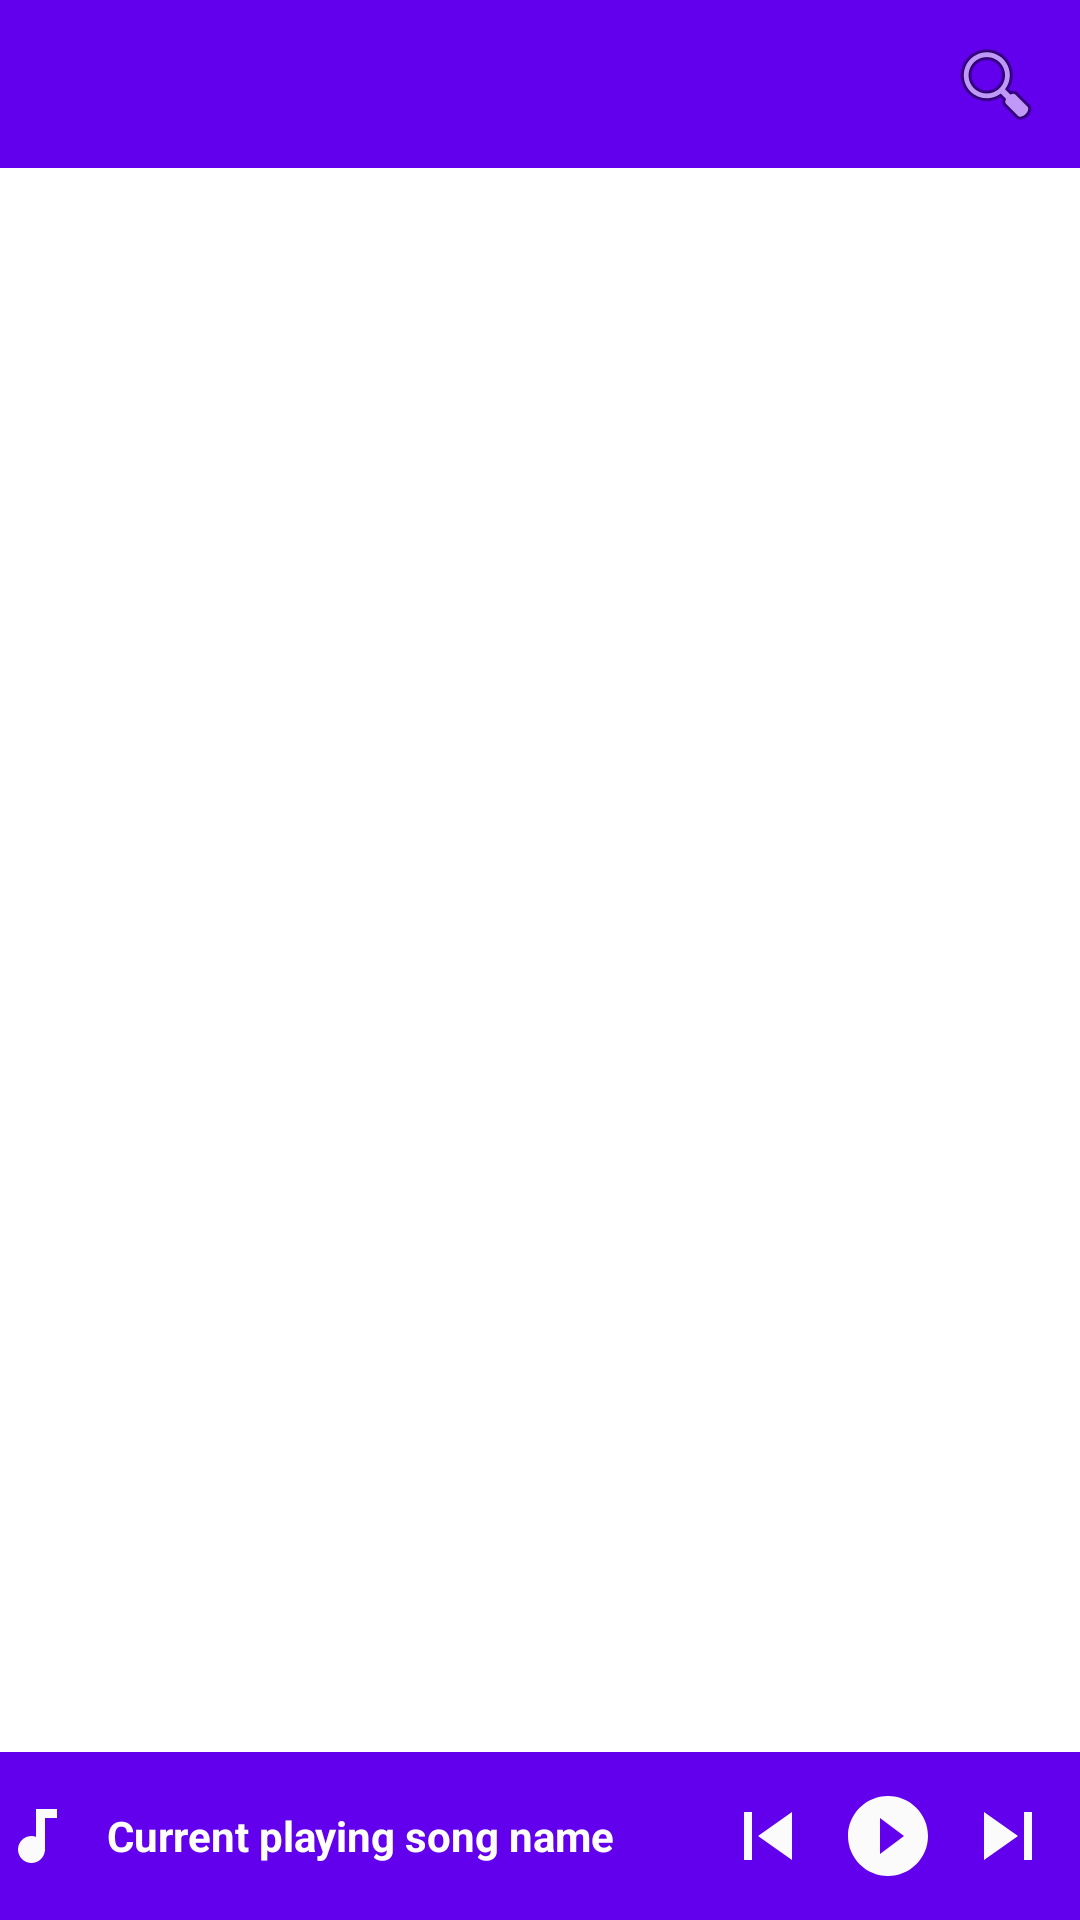

Where icons sit on this 1080px x 1920px app screen, as [left=x1, top=y1, right=x2, bottom=y2]:
play circle: [left=848, top=1796, right=928, bottom=1876]
